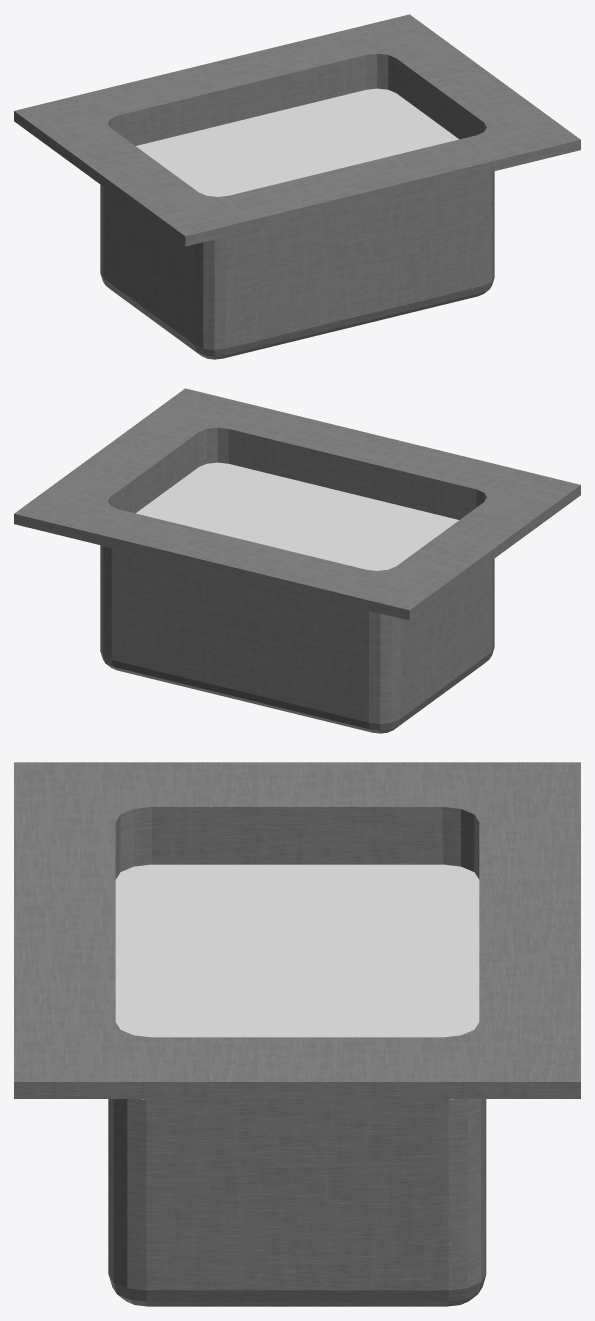
The model's file is IDK.fbx.
3 renders of one model, top to bottom at view 1: azimuth 30°, elevation 25°; view 2: azimuth 150°, elevation 25°; view 3: azimuth 270°, elevation 25°, orthographic. The views are drawn at different scales.
Visible parts, largest first — view 1: Cube, Плоскость; view 2: Cube, Плоскость; view 3: Cube, Плоскость.
Boxes of the visible parts, left/top/right/bottom form: Cube: left=14, top=14, right=580, bottom=359; Плоскость: left=136, top=88, right=458, bottom=196; Cube: left=14, top=388, right=580, bottom=733; Плоскость: left=136, top=462, right=458, bottom=570; Cube: left=14, top=762, right=580, bottom=1306; Плоскость: left=115, top=864, right=479, bottom=1099.
Size of the model in its own units: 400 by 160 by 300.
